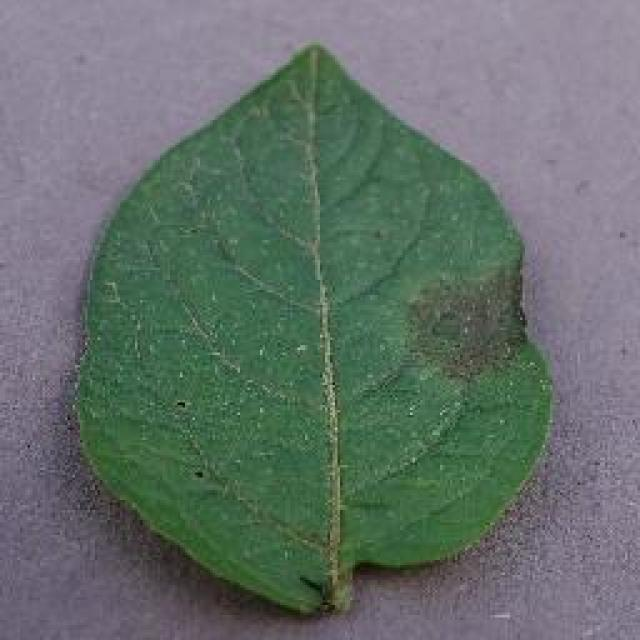late_blight: (68, 38, 558, 620)
